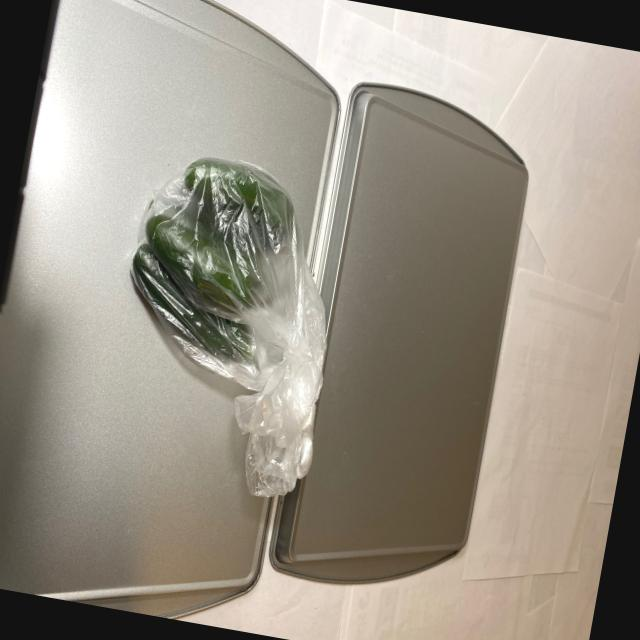chilli: (111, 140, 332, 410)
